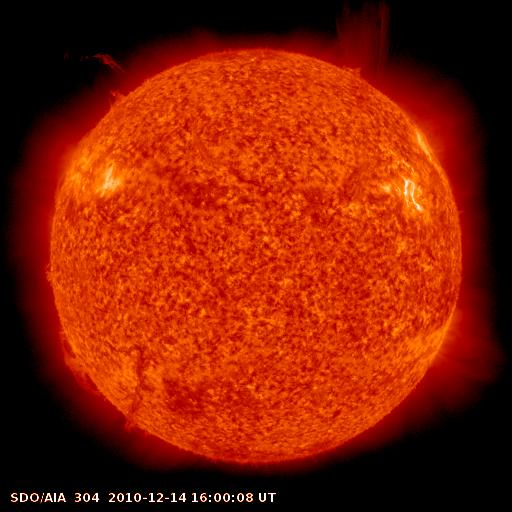prominence: (325, 1, 404, 91), (67, 41, 147, 116), (43, 325, 117, 405), (108, 398, 163, 452), (33, 256, 69, 294)
